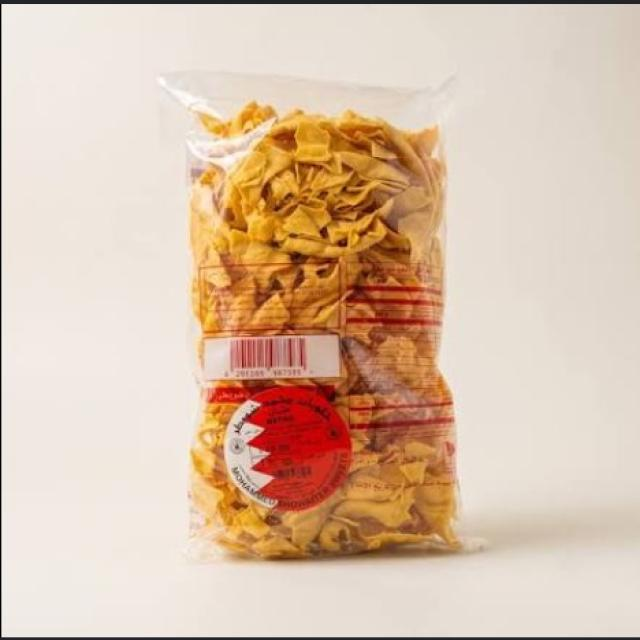Mattai: (183, 84, 463, 554)
